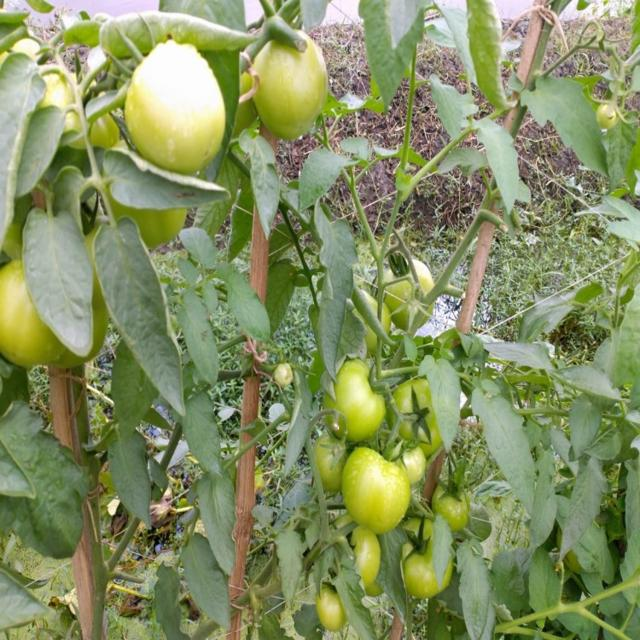tomato: (119, 39, 237, 172), (1, 249, 114, 365), (256, 30, 337, 139), (38, 69, 112, 150), (344, 447, 413, 530), (324, 362, 386, 445), (102, 191, 191, 245), (378, 251, 440, 326), (395, 377, 454, 450), (403, 516, 451, 593), (354, 290, 392, 345), (314, 435, 349, 488), (348, 529, 381, 584), (315, 589, 349, 633), (389, 445, 428, 482), (438, 488, 467, 536), (277, 363, 294, 391), (597, 102, 616, 126)
